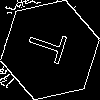T: (25, 25, 76, 68)
